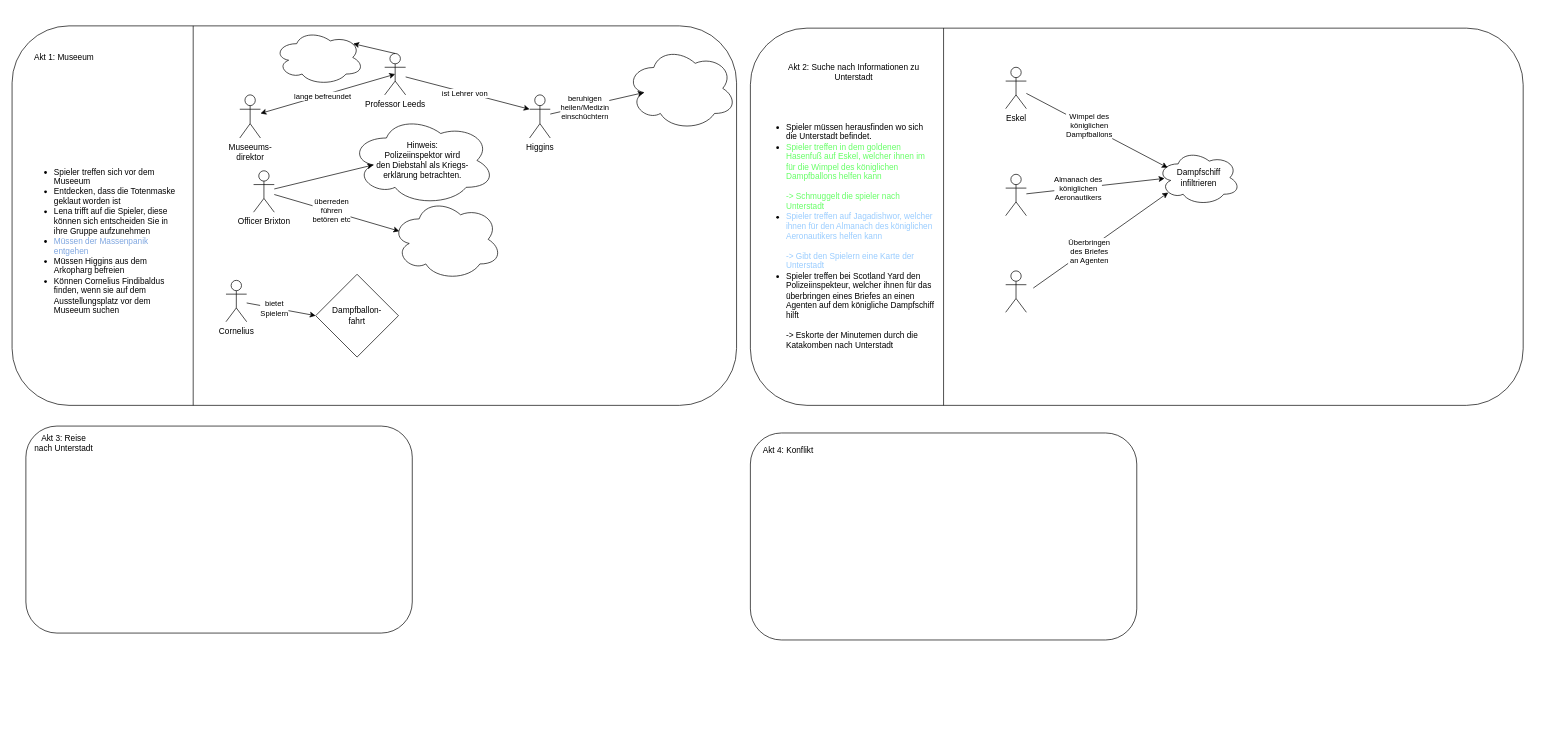
Image size: 1549x741. Some labels were removed from this diagram. The centre of each missing label's shape, as x and y in pixels:
"Hinweis: Backett Bande versteckt sich in Kanalisation." belongs at [446,239].
"Hinweis: Details über den Überfall..." belongs at [681,88].
"Hinweis: Higgins fehlt..." belongs at [319,57].
"Jagadishwor" belongs at [1015,195].
"Polizeiinspekteur" belongs at [1015,291].
